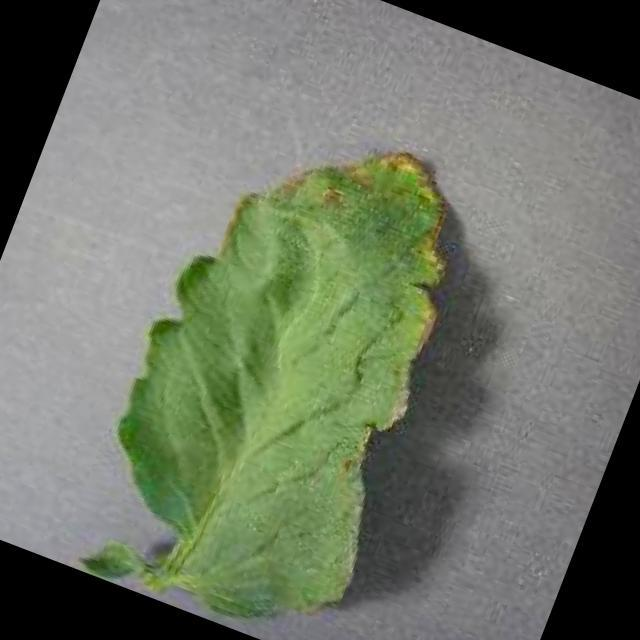Tomato bacterial spot leaf: (60, 83, 507, 640)
